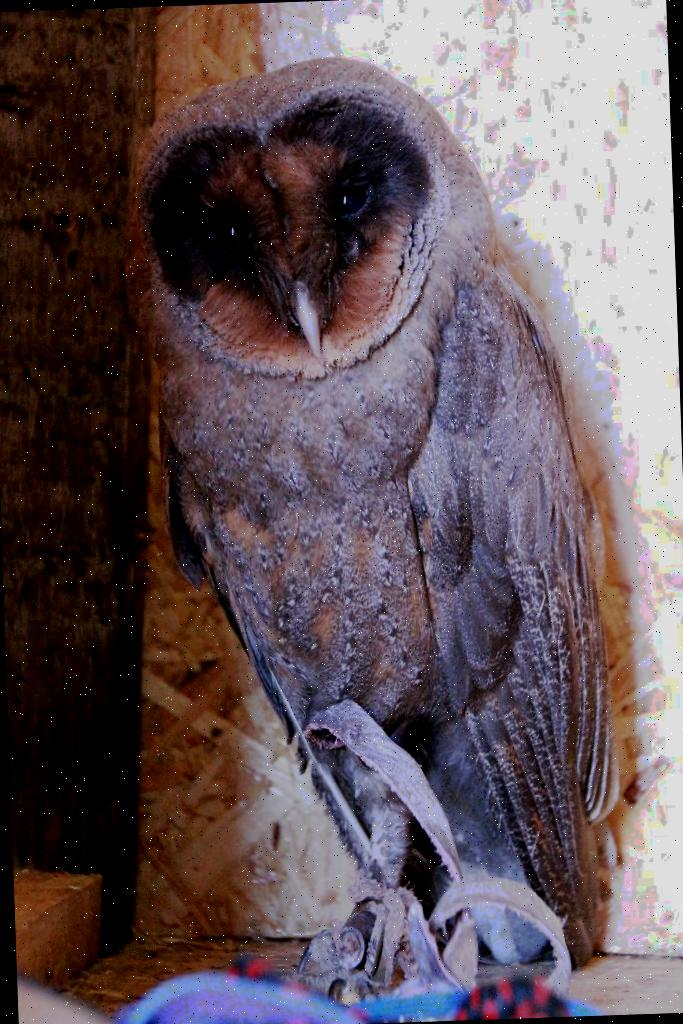Owl: (104, 44, 642, 994)
